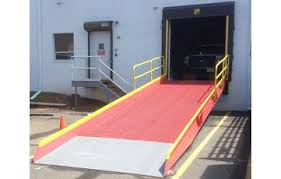Yard Ramp: (31, 54, 231, 178)
